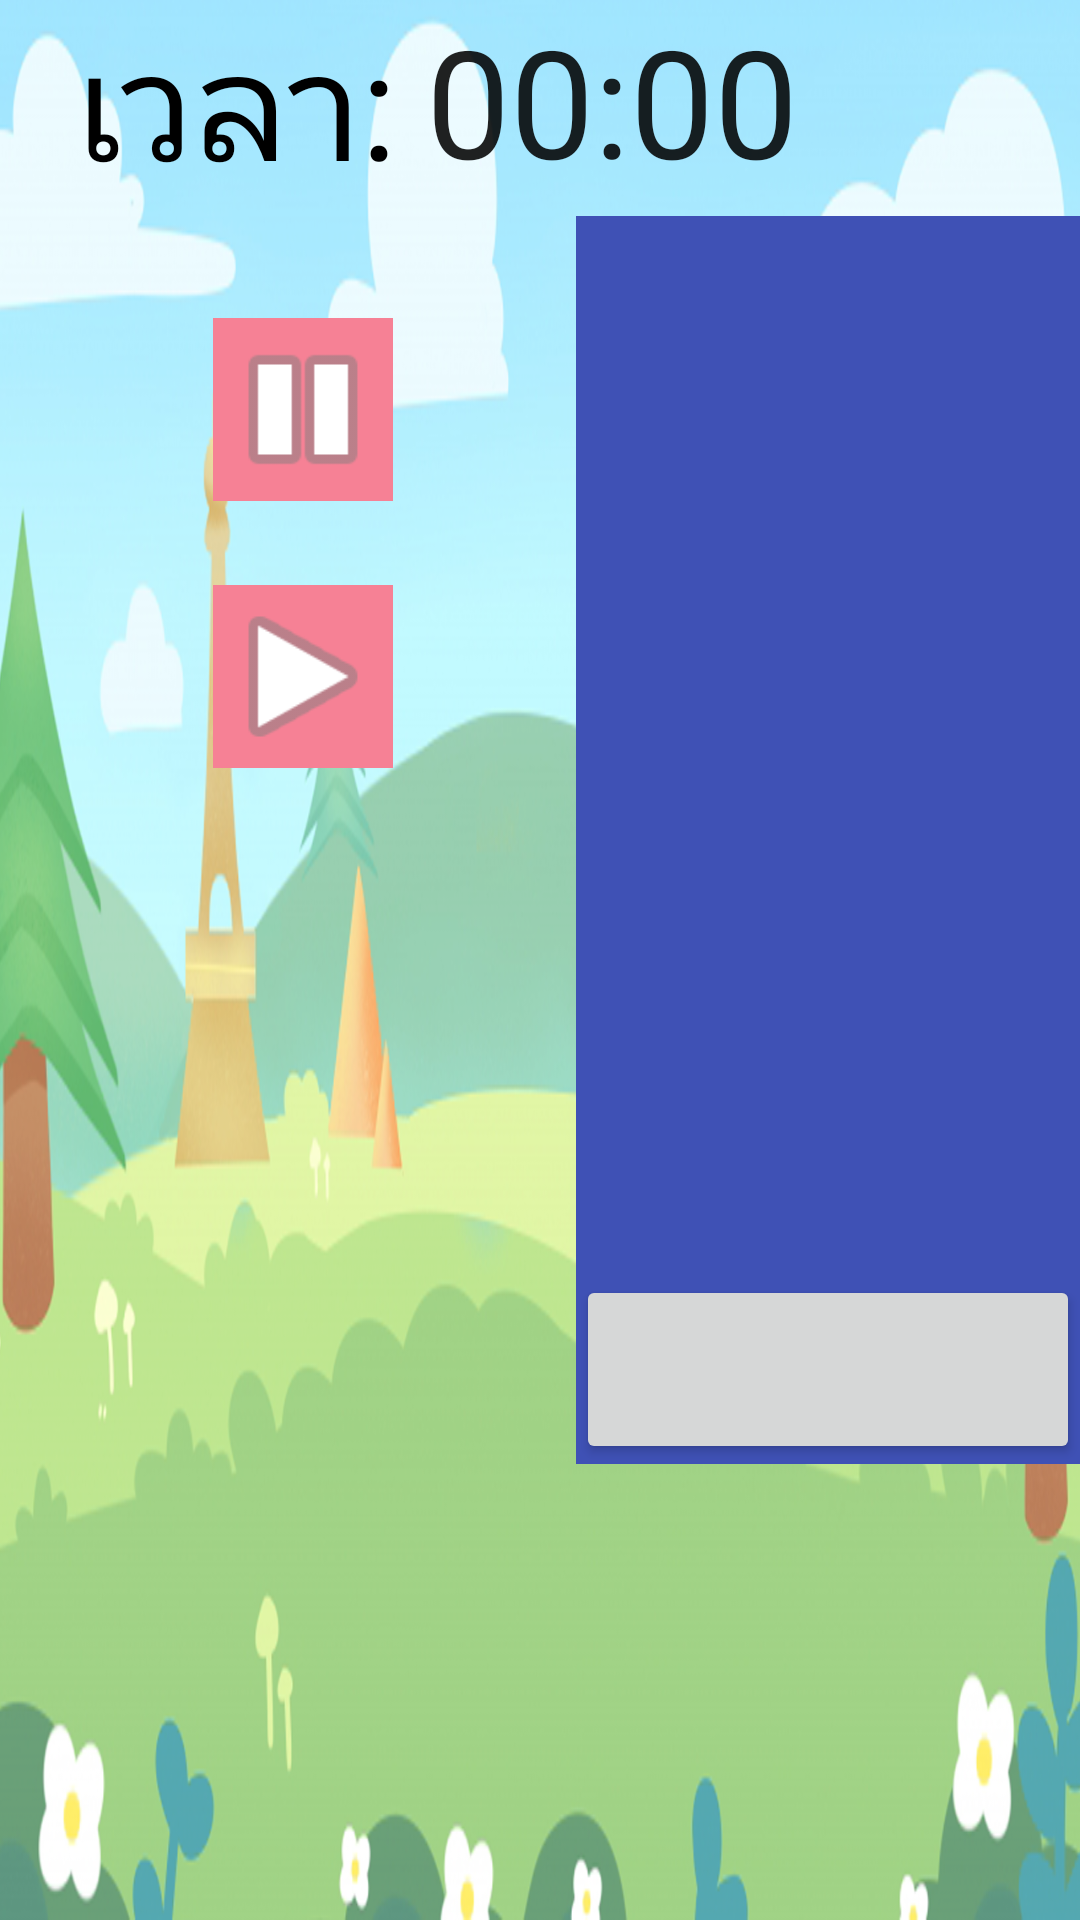

Icons on this 1080×1920 Android screen, each with its box as (x1, y1, x2, y2):
pause: (213, 318, 393, 501)
play: (213, 585, 393, 768)
